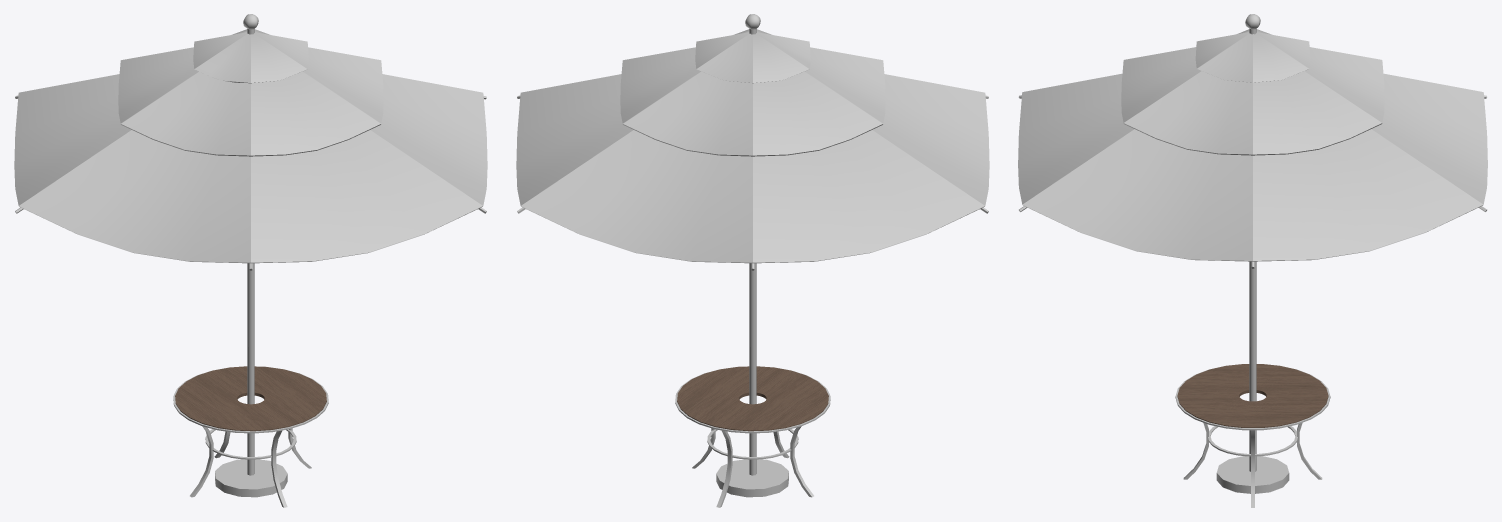
File: D_TableEX_001.fbx
The picture shows the model from 3 angles, left to right: view 1: azimuth 30°, elevation 25°; view 2: azimuth 150°, elevation 25°; view 3: azimuth 270°, elevation 25°; orthographic projection.
Parts seen in each view (by area): view 1: D_TableEX_001; view 2: D_TableEX_001; view 3: D_TableEX_001.
Boxes of the visible parts, x1=… form: D_TableEX_001: x1=14, y1=14, x2=487, y2=507; D_TableEX_001: x1=516, y1=14, x2=989, y2=507; D_TableEX_001: x1=1018, y1=14, x2=1487, y2=507.
Bounding box in the file's own units: 4.73 × 4.49 × 4.11.
